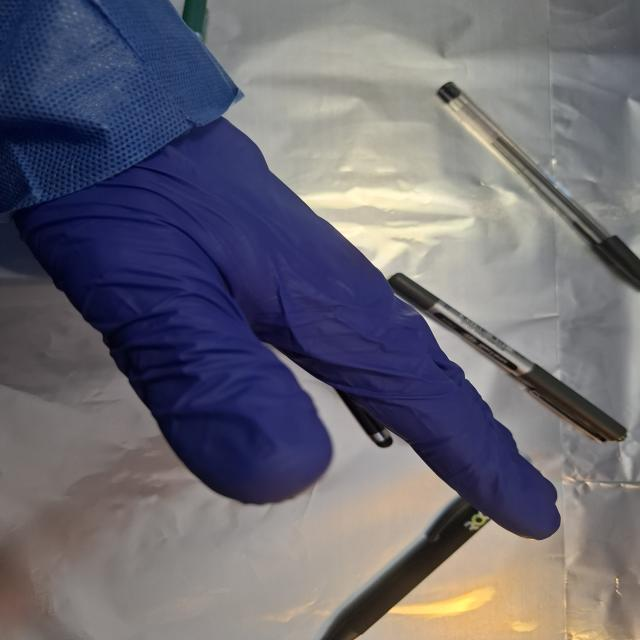glove_on: (7, 112, 565, 543)
